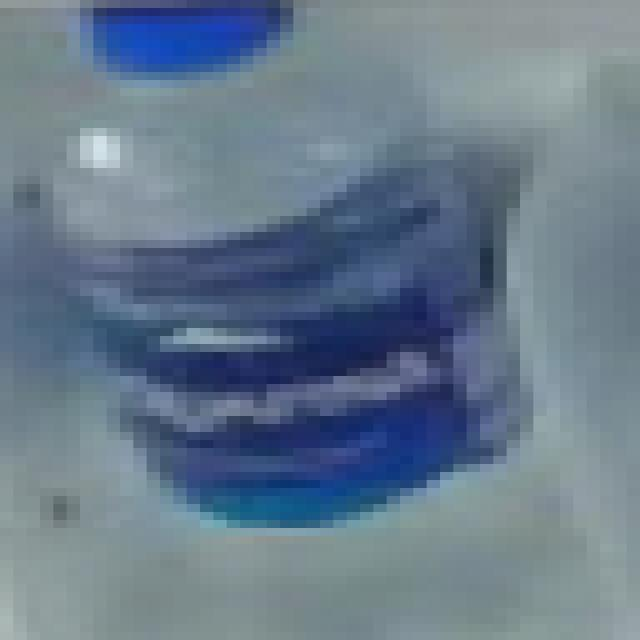Plastic: (49, 0, 539, 617)
